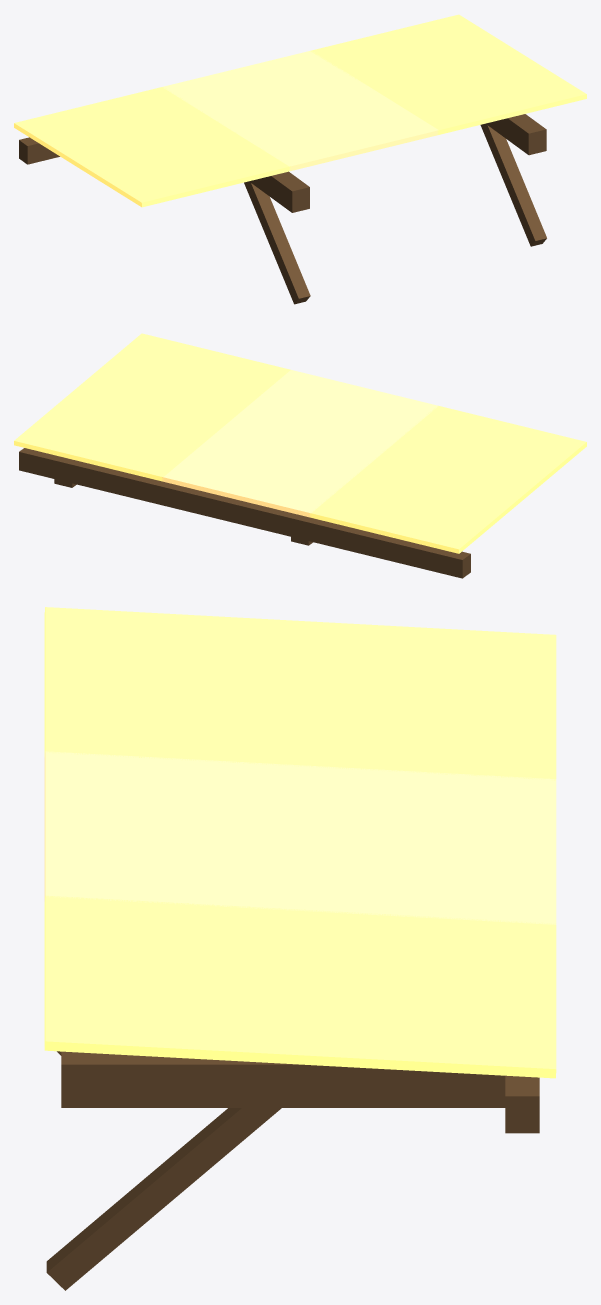
The model's file is awning_canvas.glb.
The picture shows the model from 3 angles, top to bottom: view 1: azimuth 30°, elevation 25°; view 2: azimuth 150°, elevation 25°; view 3: azimuth 270°, elevation 25°; orthographic projection. The views are drawn at different scales.
Parts seen in each view (by area): view 1: awning_canvas; view 2: awning_canvas; view 3: awning_canvas.
Part boxes in pixels (x1,y1,x2,y2): awning_canvas: (14,14,586,304); awning_canvas: (14,333,586,578); awning_canvas: (44,607,556,1290).
Size of the model in its own units: 3.01 by 0.93 by 1.5.
